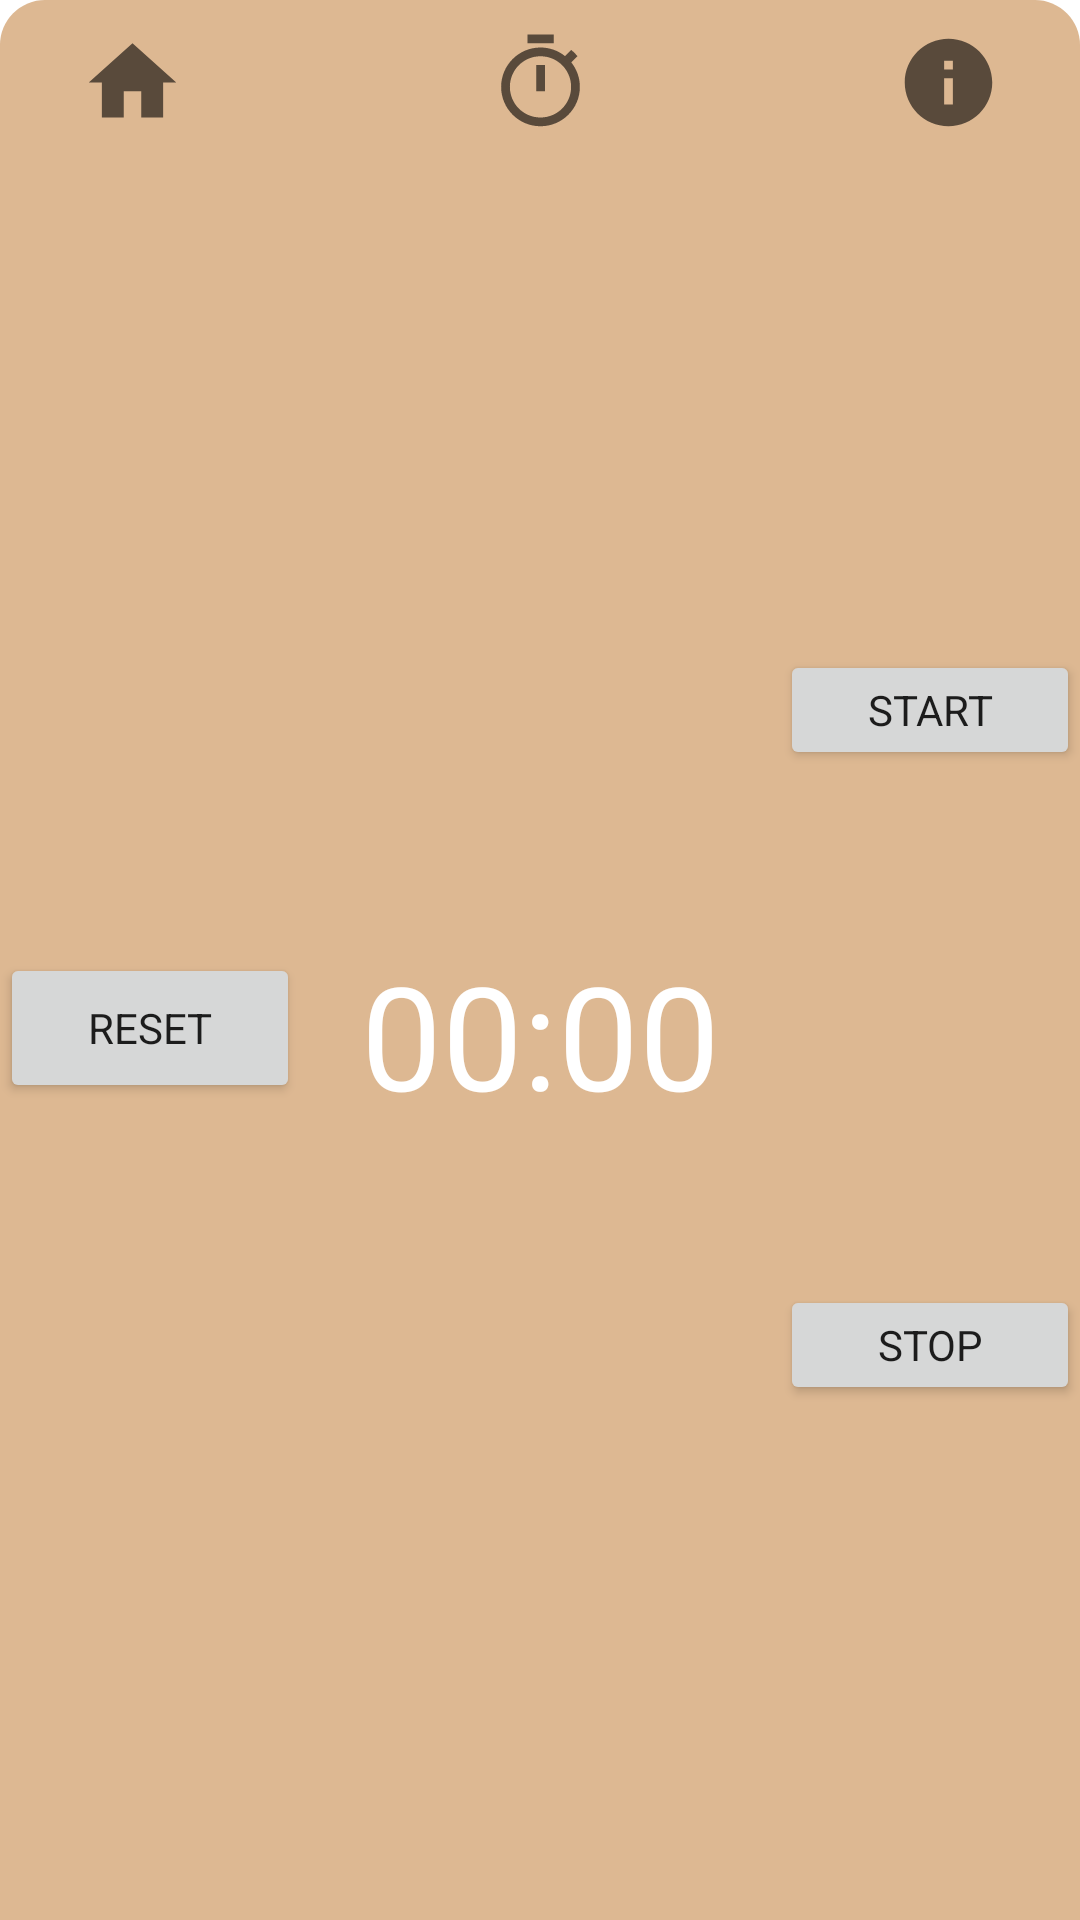

Screen size 1080px×1920px. Icon name, then its center in pixels as [x,y]:
home: [132,80]
info: [948,82]
Stopwatch: [540,80]
